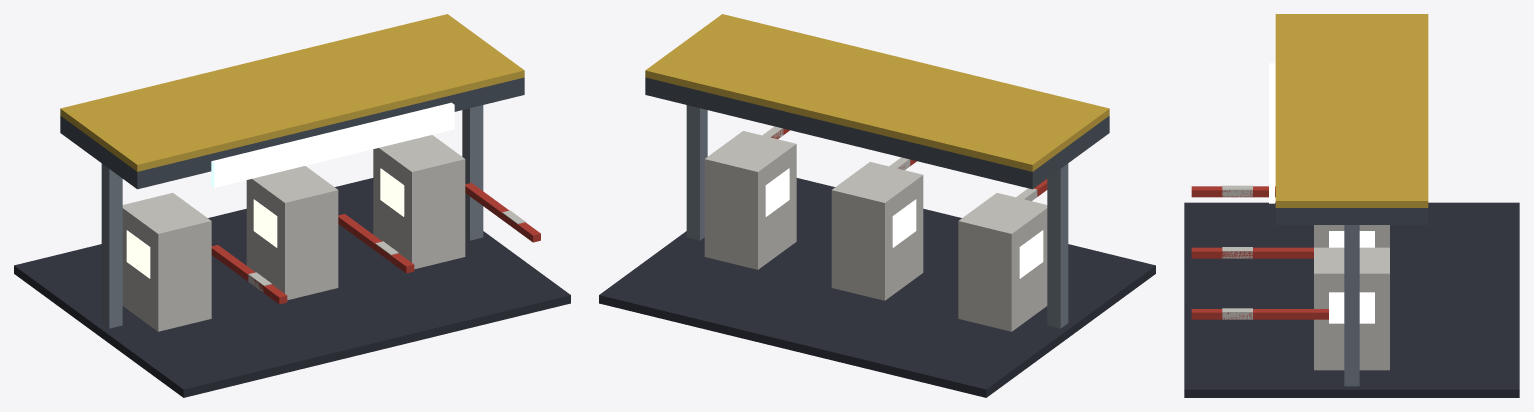
The model's file is nat-tollbooth.glb.
3 views of the same model, side by side, from view 1: azimuth 30°, elevation 25°; view 2: azimuth 150°, elevation 25°; view 3: azimuth 270°, elevation 25° (orthographic).
Parts seen in each view (by area): view 1: cw_paint, cw_neon, cw_glow; view 2: cw_paint, cw_glow; view 3: cw_paint, cw_glow, cw_neon.
Boxes of the visible parts, bbox=[...] form: cw_paint: bbox=[14, 14, 570, 397]; cw_neon: bbox=[211, 102, 454, 187]; cw_glow: bbox=[126, 168, 404, 278]; cw_paint: bbox=[599, 14, 1155, 397]; cw_glow: bbox=[765, 168, 1043, 278]; cw_paint: bbox=[1184, 14, 1519, 397]; cw_glow: bbox=[1329, 231, 1374, 323]; cw_neon: bbox=[1269, 63, 1274, 203].
Size of the model in its own units: 5.8 by 2.85 by 4.4.
